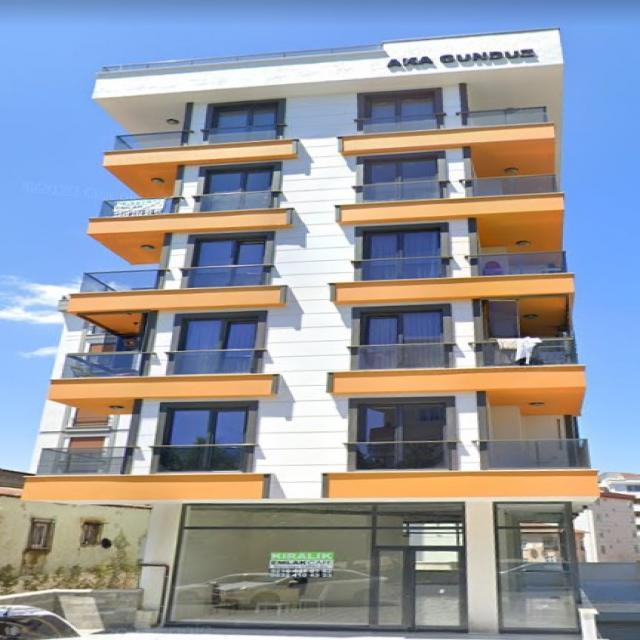Building: (21, 29, 598, 633)
